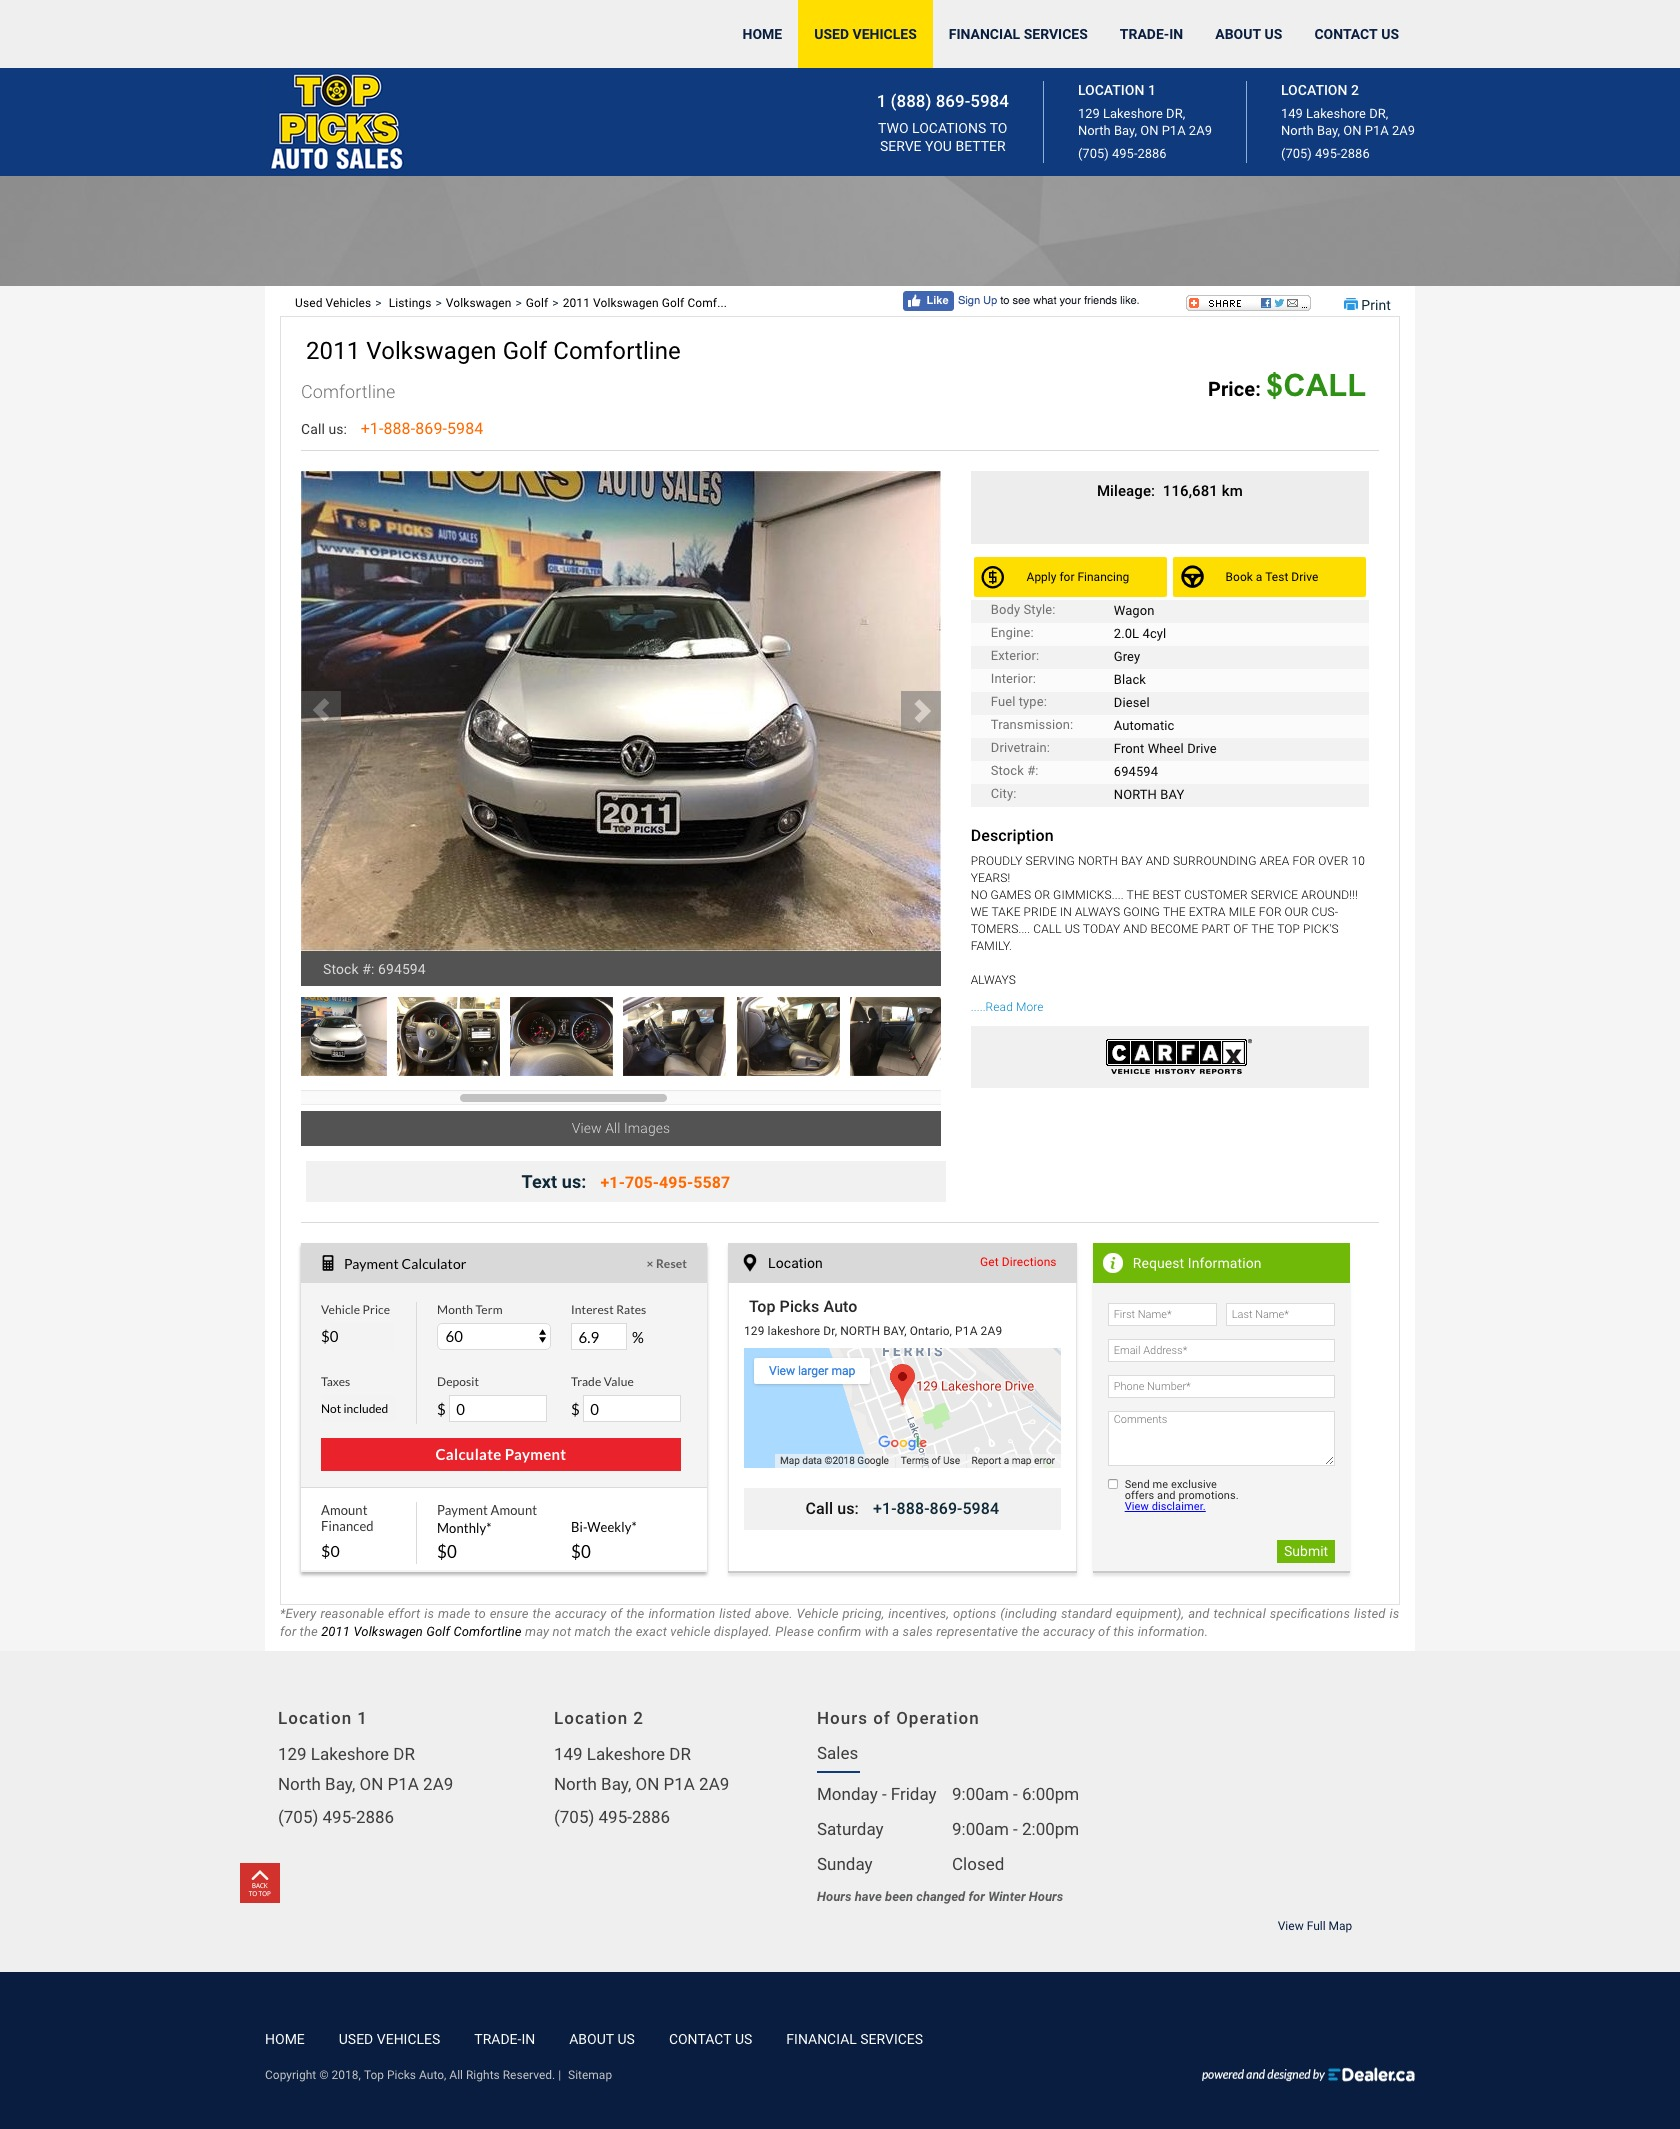car: (914, 700, 932, 724)
